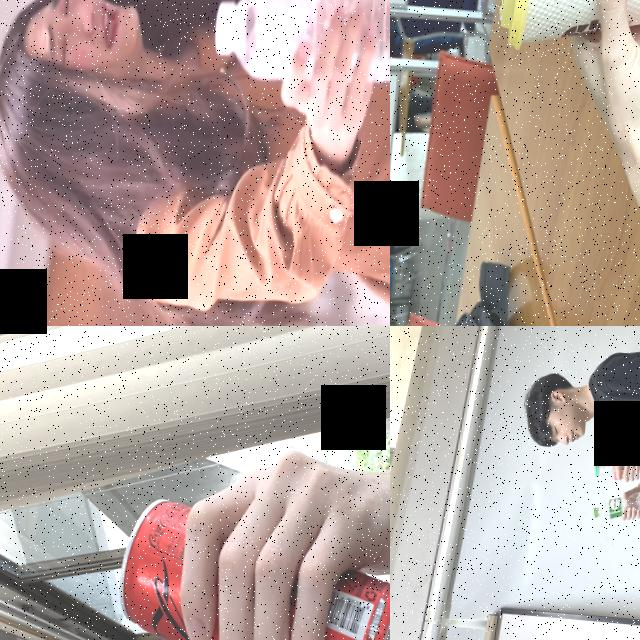bottle: (209, 0, 390, 93), (593, 438, 640, 483), (591, 481, 640, 523)
can: (103, 489, 390, 640)
cup: (493, 0, 640, 67)
